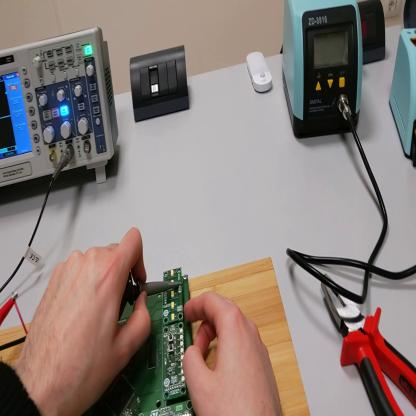hand: (24, 228, 151, 416), (181, 292, 282, 415)
low voltage board: (16, 269, 196, 416)
oscilloscope: (2, 26, 122, 187)
oscilloscope probe tip: (124, 275, 182, 305)
pliers: (323, 275, 416, 416)
socket: (359, 1, 390, 68), (403, 3, 416, 33)
welder base: (389, 13, 416, 169)
welder station: (282, 2, 365, 141)
working area: (2, 254, 313, 416)
